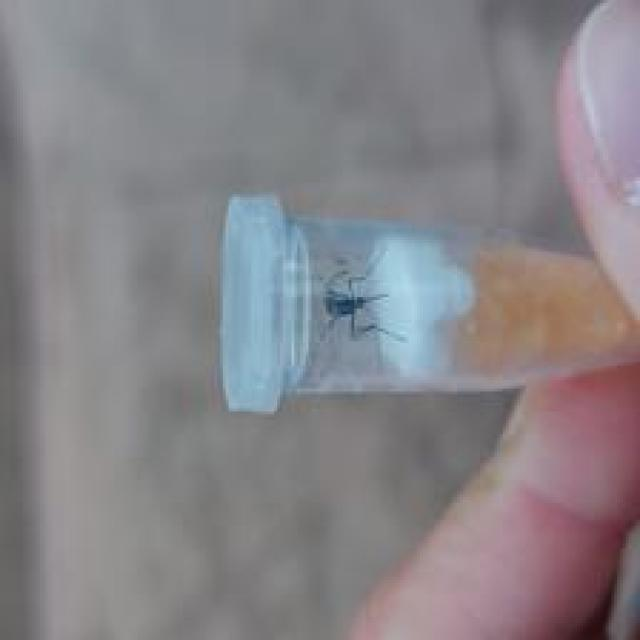Aedes albopictus: (319, 248, 407, 346)
